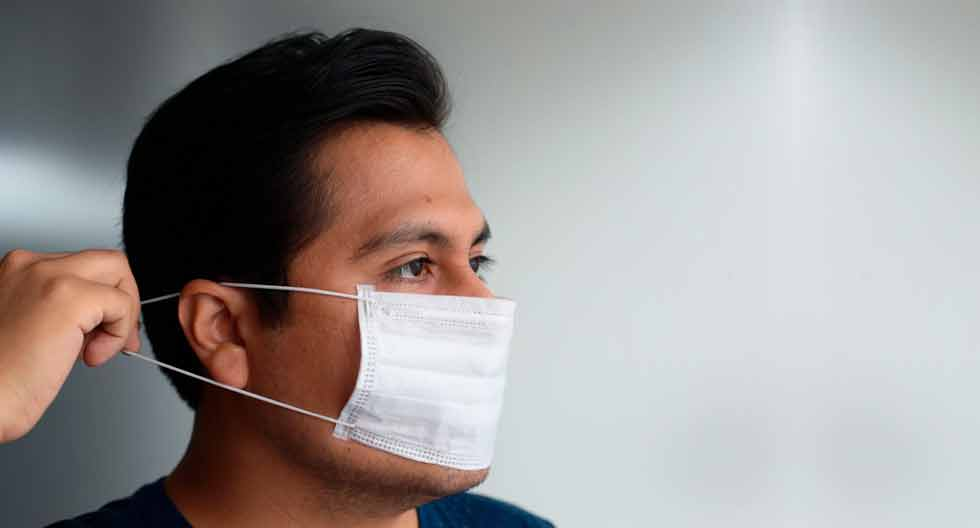with_mask: (140, 39, 543, 507)
